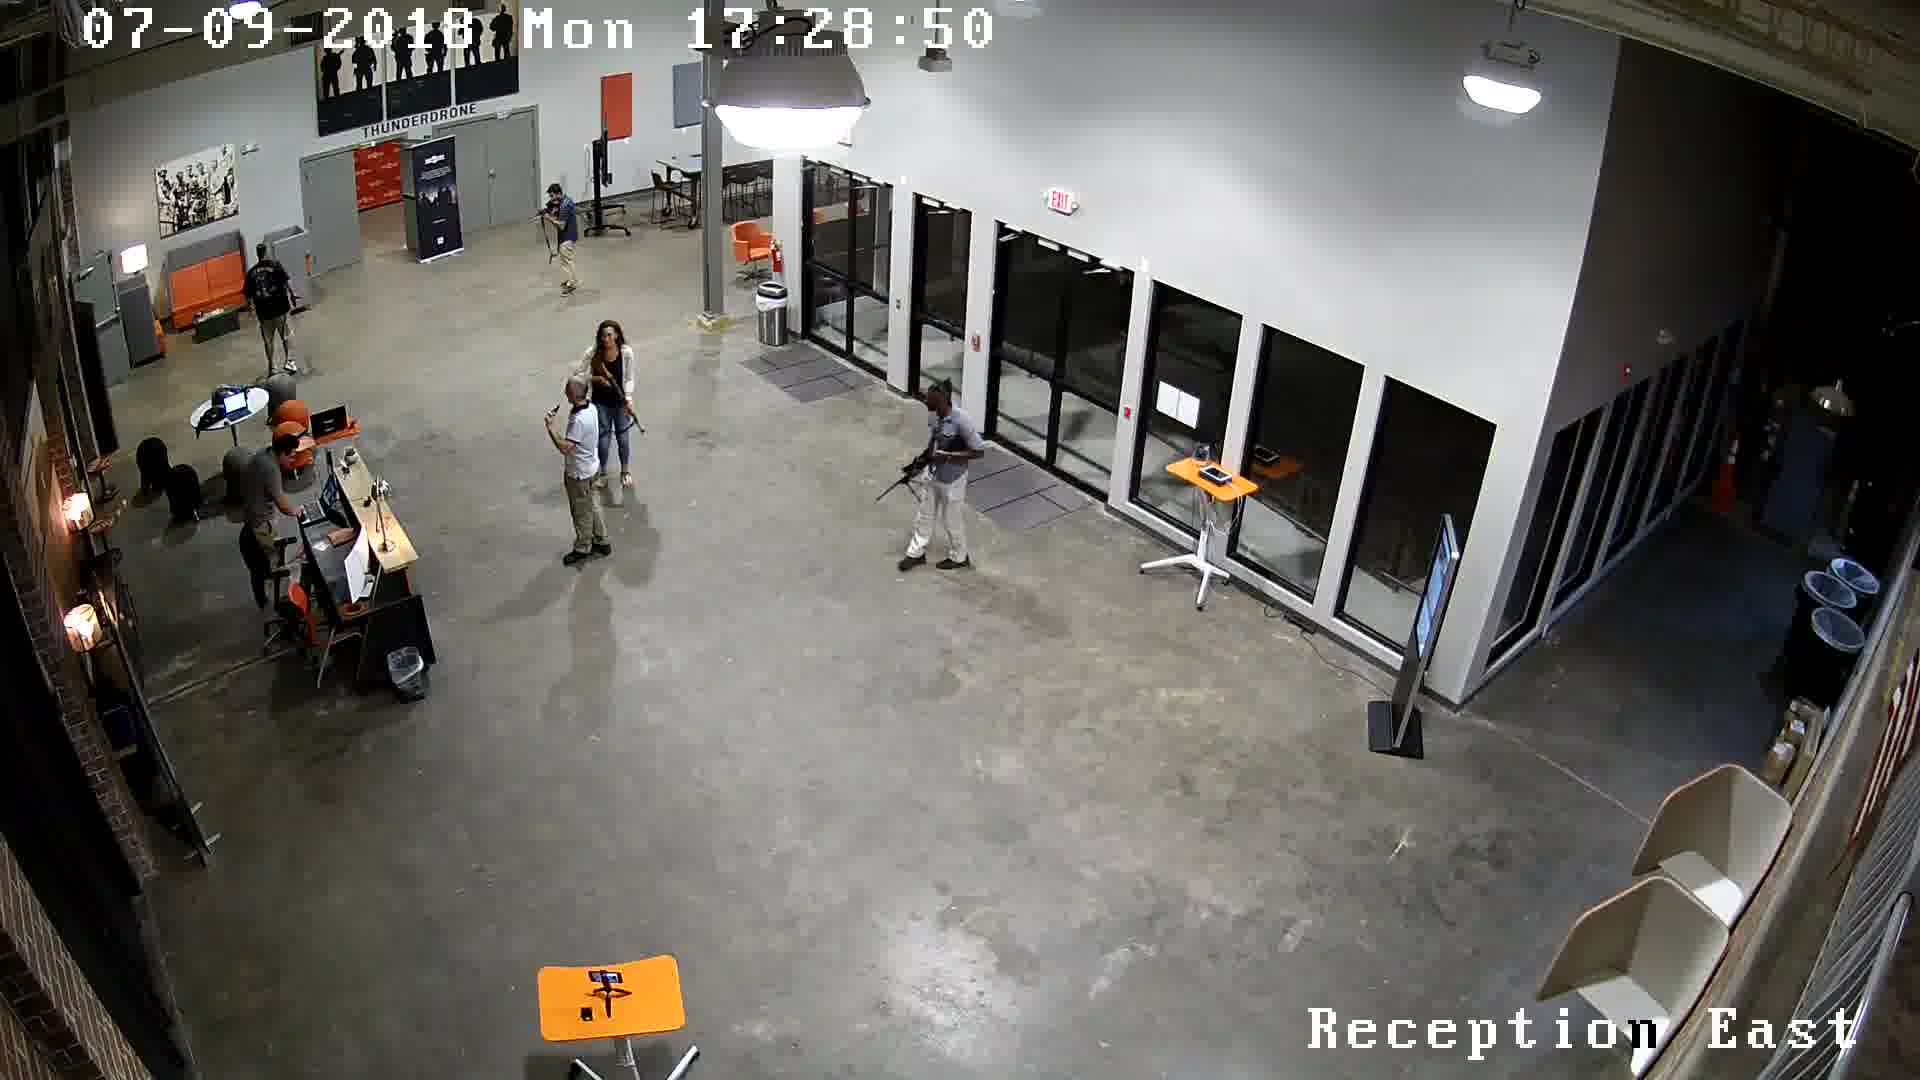pistol: (531, 396, 564, 438)
